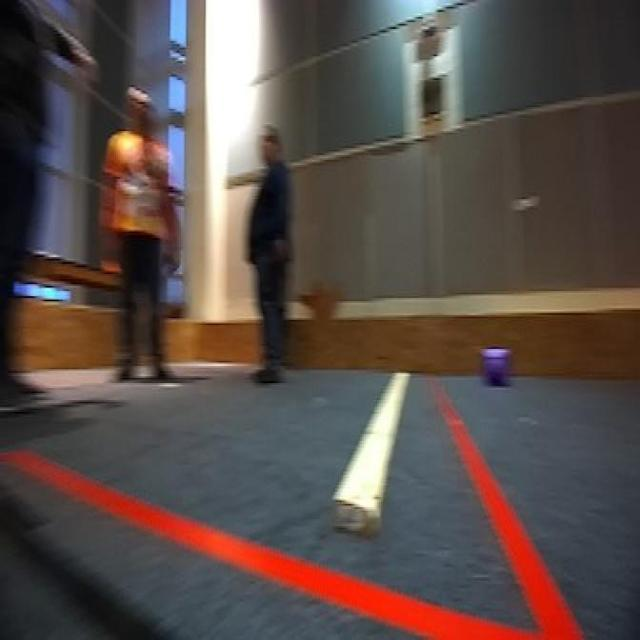frc_cube: (482, 346, 508, 384)
